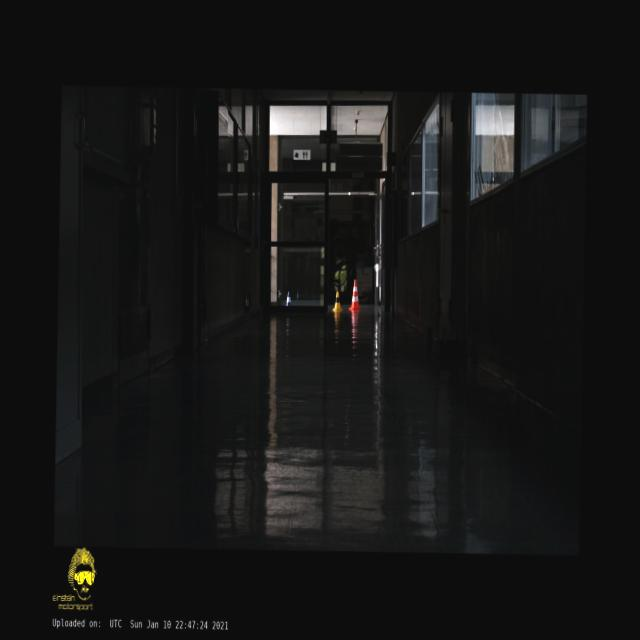blue_cone: (286, 290, 291, 306)
large_orange_cone: (348, 279, 361, 311)
yellow_cone: (331, 290, 342, 312)
